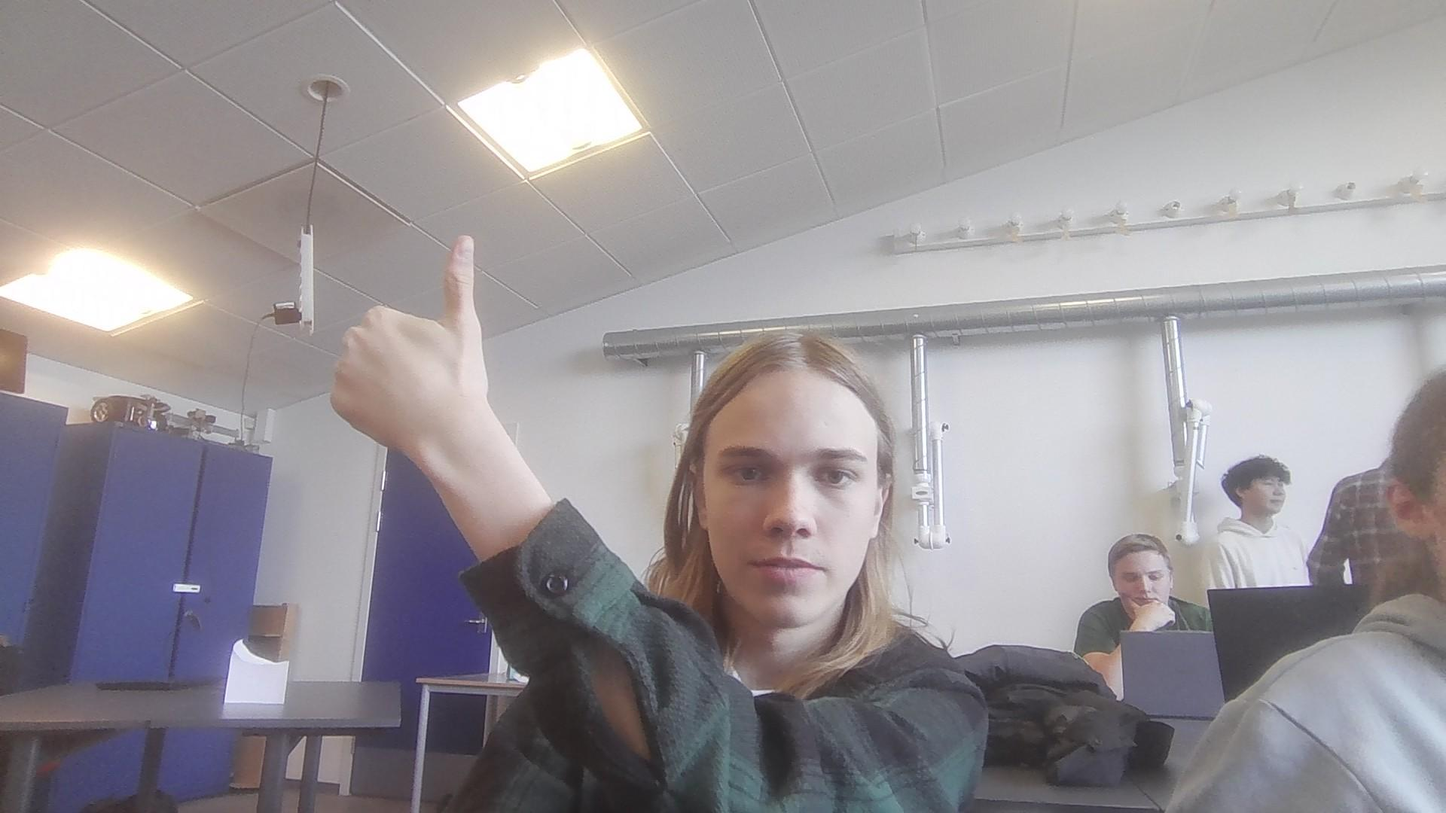thumbs up: (325, 228, 506, 478)
